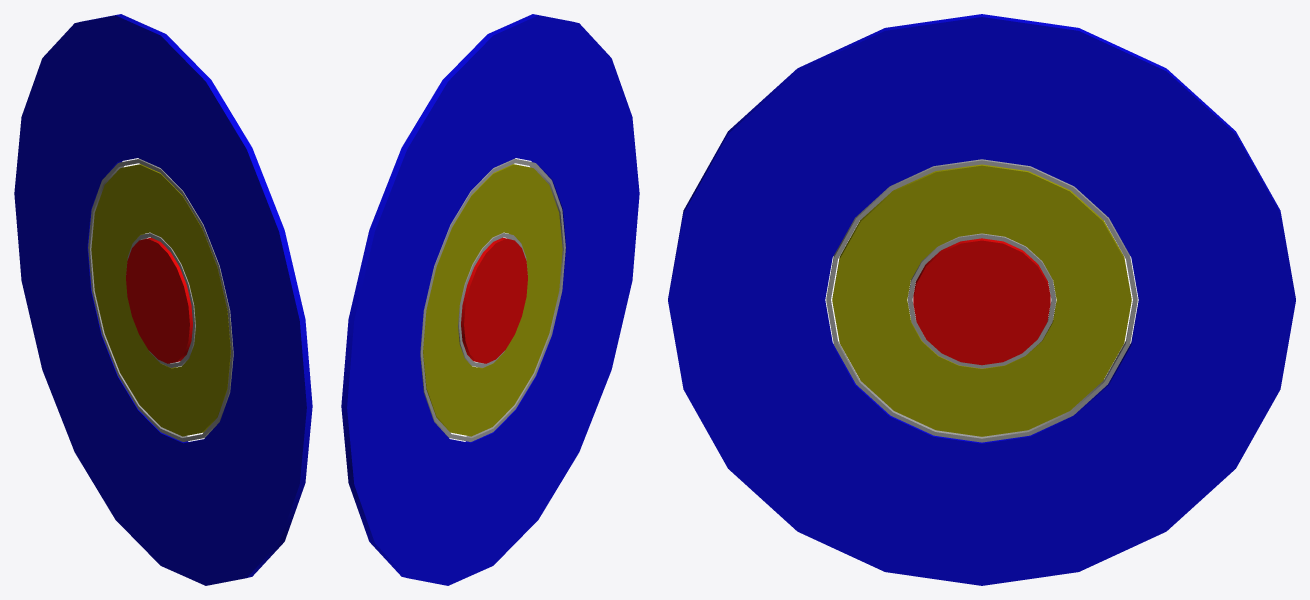
Rendered from Target.fbx.
The picture shows the model from 3 angles, left to right: view 1: azimuth 30°, elevation 25°; view 2: azimuth 150°, elevation 25°; view 3: azimuth 270°, elevation 25°; orthographic projection. The views are drawn at different scales.
Visible parts, largest first — view 1: Outer_Target, Middle_Target, Inner_Target, Outer_Emmisive, Inner_Emmisive; view 2: Outer_Target, Middle_Target, Inner_Target, Outer_Emmisive, Inner_Emmisive; view 3: Outer_Target, Middle_Target, Inner_Target, Outer_Emmisive, Inner_Emmisive.
Part boxes in pixels (left/top/right/bottom): Outer_Target: left=14, top=14, right=312, bottom=585; Middle_Target: left=91, top=164, right=230, bottom=436; Inner_Target: left=126, top=237, right=192, bottom=363; Outer_Emmisive: left=88, top=158, right=233, bottom=441; Inner_Emmisive: left=126, top=233, right=195, bottom=367; Outer_Target: left=341, top=14, right=639, bottom=585; Middle_Target: left=423, top=164, right=562, bottom=436; Inner_Target: left=461, top=237, right=527, bottom=363; Outer_Emmisive: left=420, top=158, right=565, bottom=441; Inner_Emmisive: left=458, top=233, right=527, bottom=367; Outer_Target: left=668, top=14, right=1295, bottom=585; Middle_Target: left=832, top=164, right=1131, bottom=436; Inner_Target: left=913, top=238, right=1050, bottom=365; Outer_Emmisive: left=826, top=159, right=1137, bottom=442; Inner_Emmisive: left=908, top=233, right=1055, bottom=368.
Bounding box in the file's own units: 0.1911 × 8.72 × 8.72.
